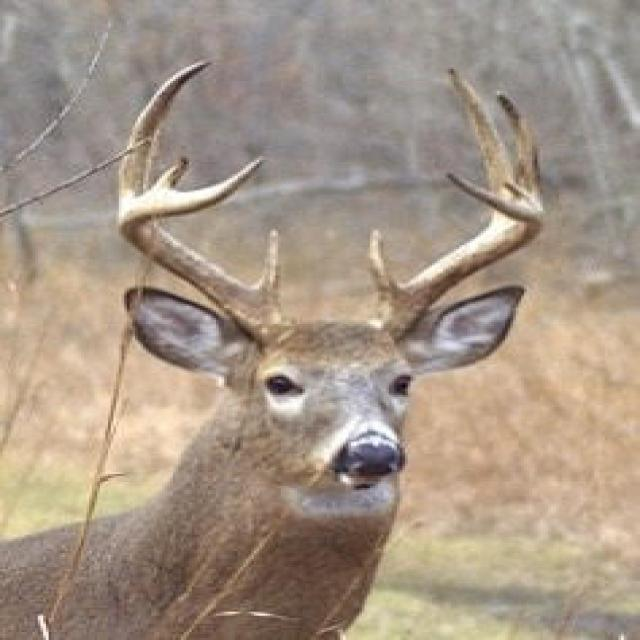E1: (142, 153, 192, 196)
E2: (502, 180, 540, 213)
L-F: (368, 170, 543, 343)
L-G1: (367, 227, 401, 305)
R-F: (117, 156, 302, 351)
R-G1: (252, 228, 281, 305)
